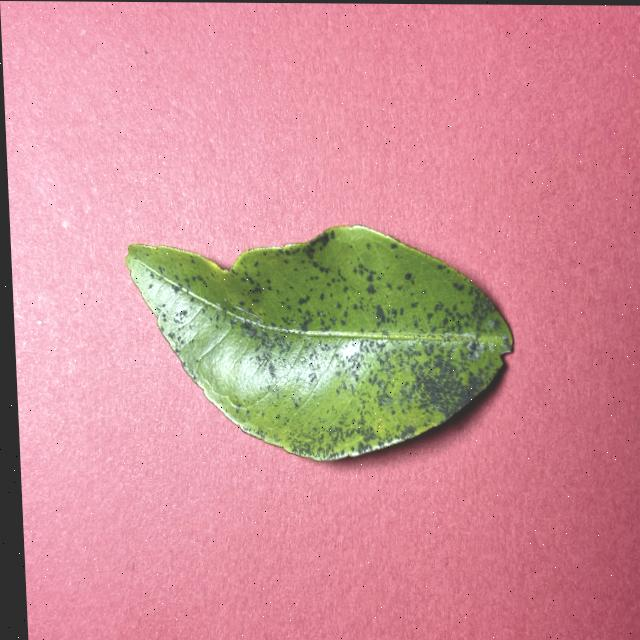sooty_mold: (126, 225, 501, 460)
